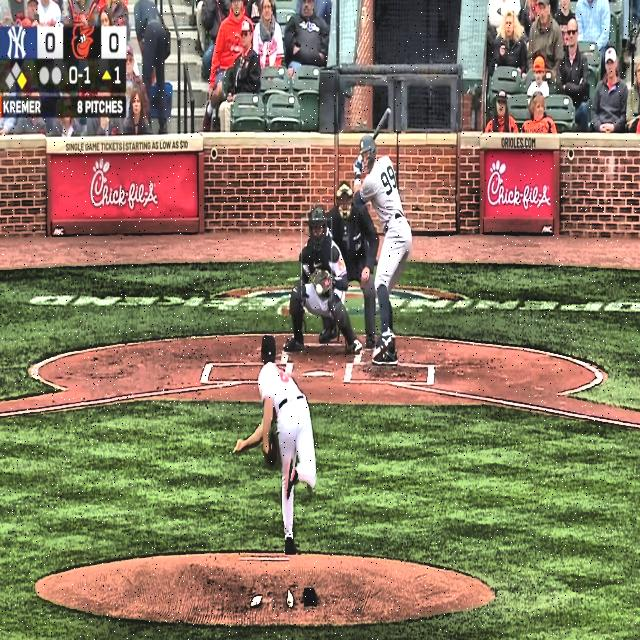baseball: (316, 282, 324, 296)
